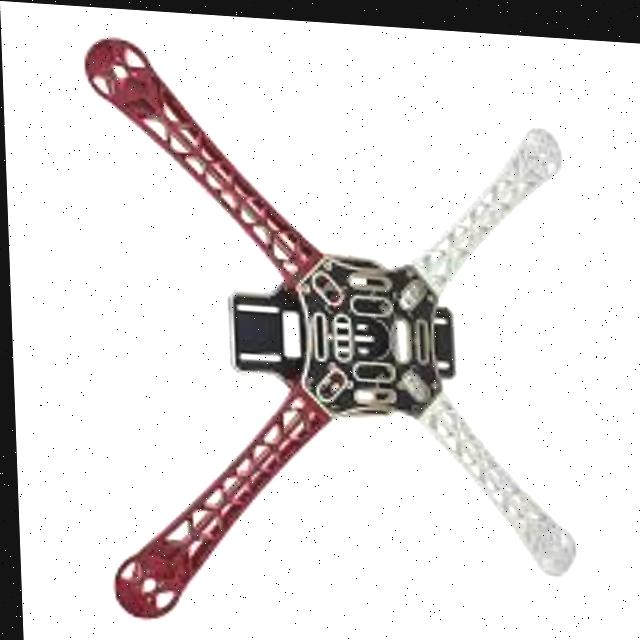drone: (80, 59, 593, 640)
